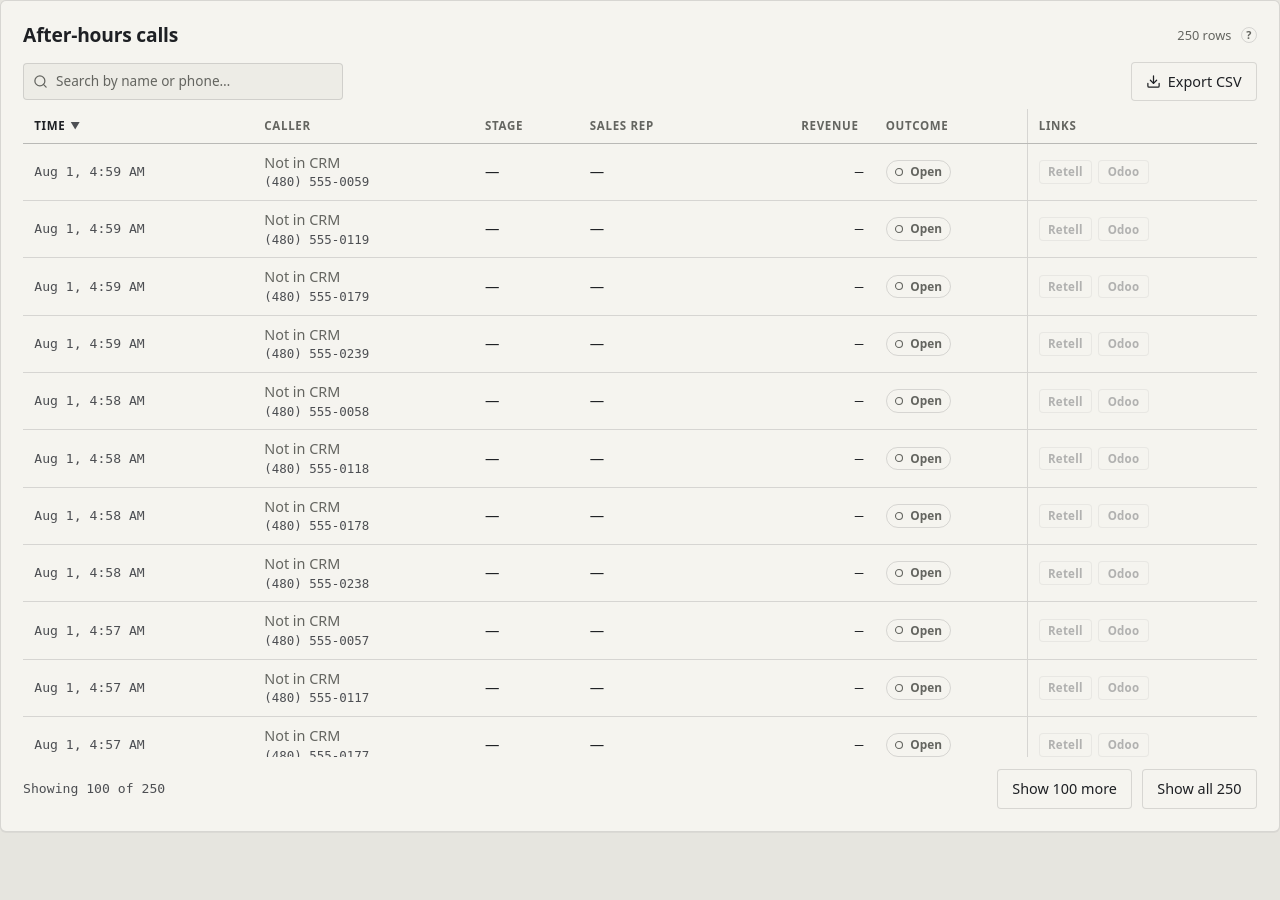
it: CallsTable paging › renders a page at a time, then more, then all
The image size is (1280, 900).
Click the button "Show 100 more" at (1065, 789), box [997,769,1132,809]
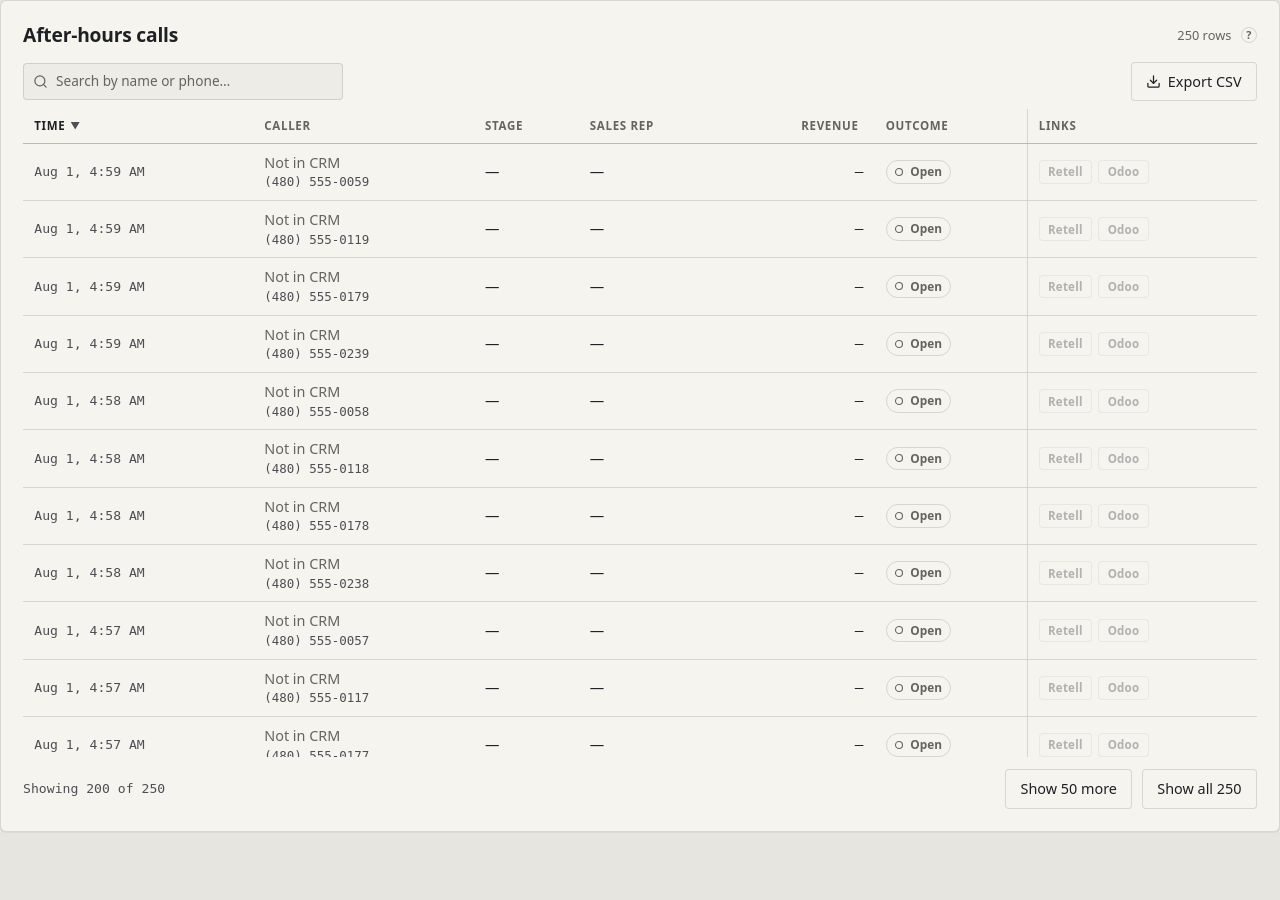
Expected: the button "Show 50 more" is shown, [1005,769,1132,809]
Click the button "Show all 250" at (1199, 789), box [1142,769,1257,809]
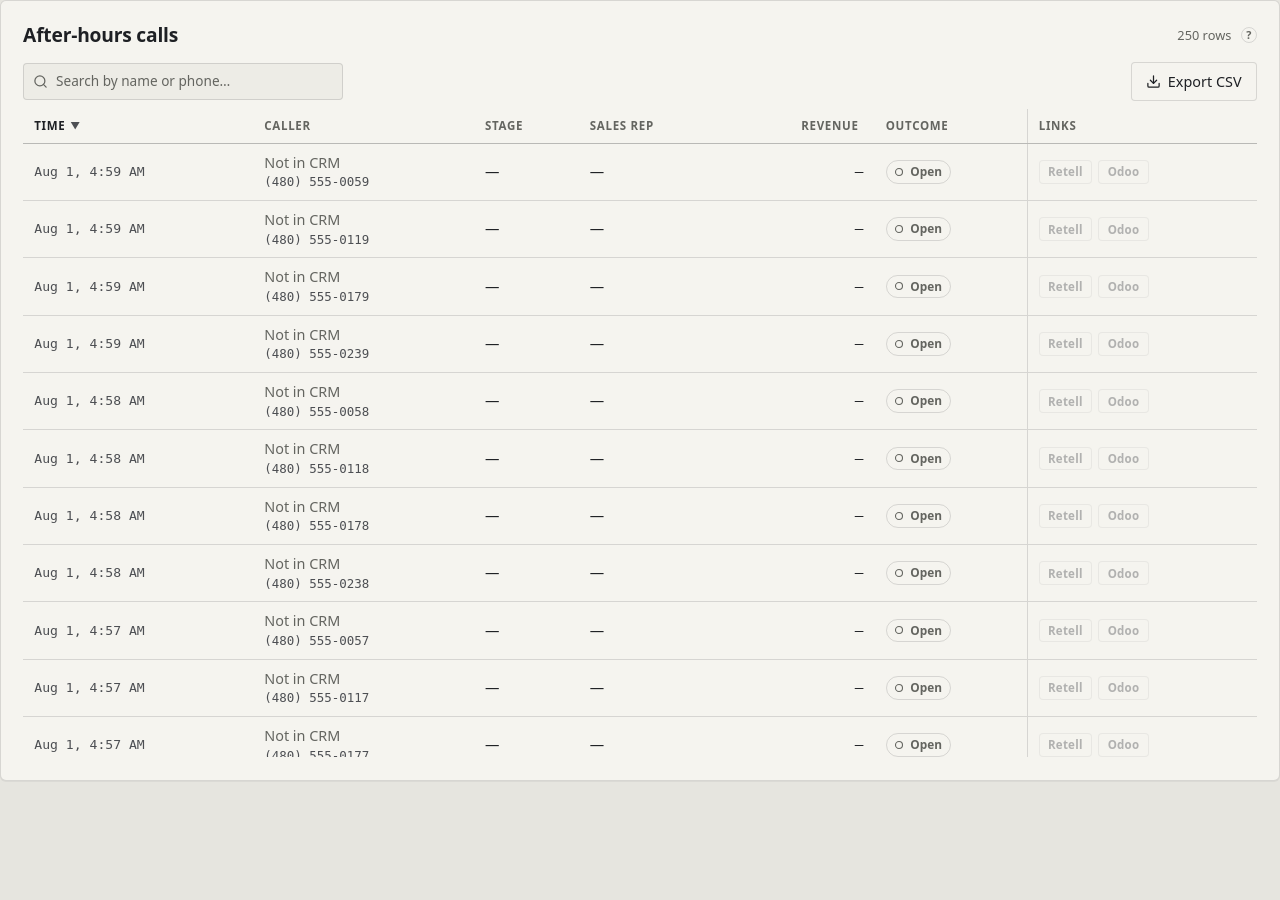
Expected: the button "Show all" is gone
